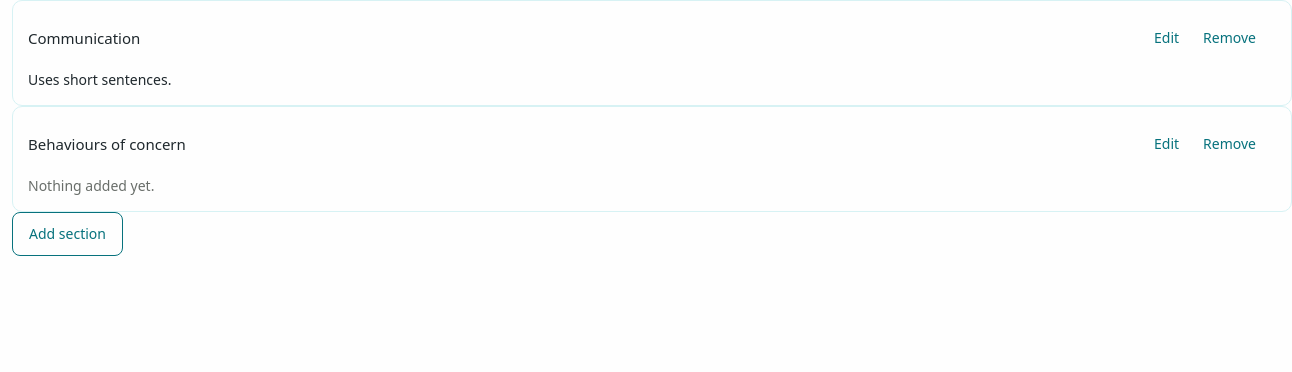
Scenario: [F0-26][AC-06] remove › [F0-26][AC-06] Remove deletes it through the contract and moves focus to Add section
Click the button with aria-label "Remove Communication": (1234, 38) [1191, 16, 1276, 60]
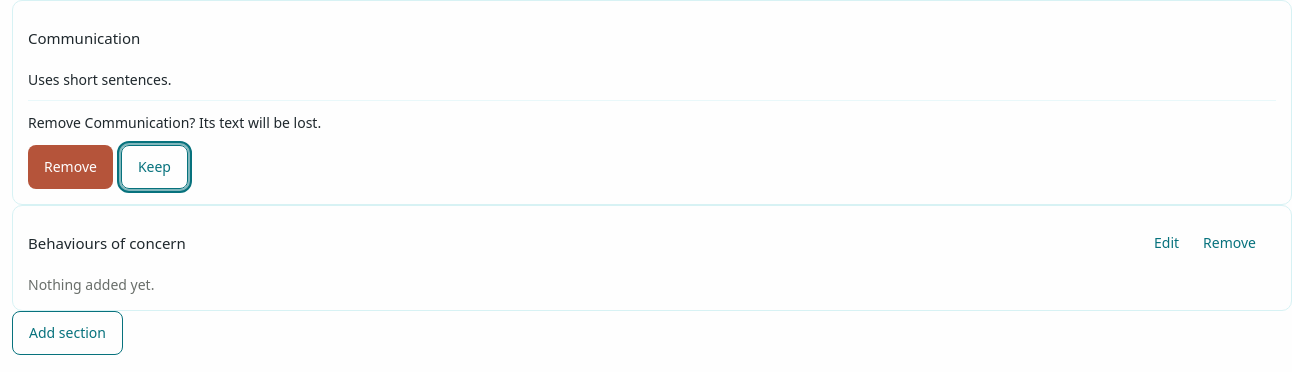
Click the button "Remove" below "? Its text will be lost.": (70, 167) [28, 145, 113, 189]
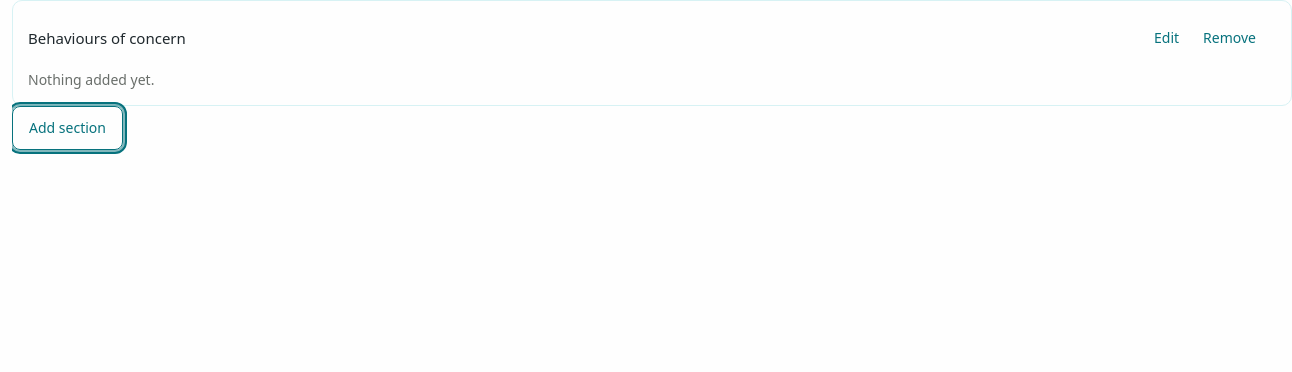
Expected: the element "Behaviours of concern" is shown, [12, 0, 1291, 106]
Expected: the heading "Communication" is gone
